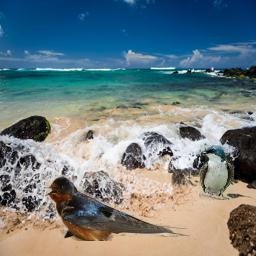Swallow: (45, 175, 190, 241), (199, 145, 234, 200)
